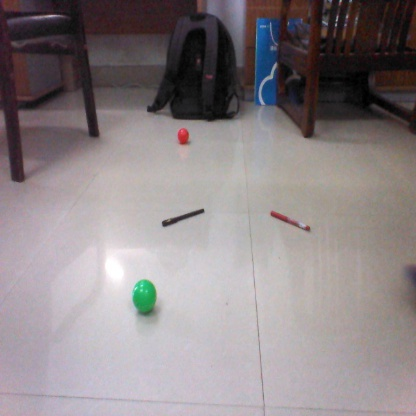ball: (129, 276, 159, 314), (175, 125, 194, 143)
pen: (161, 205, 206, 227), (268, 209, 312, 231)
